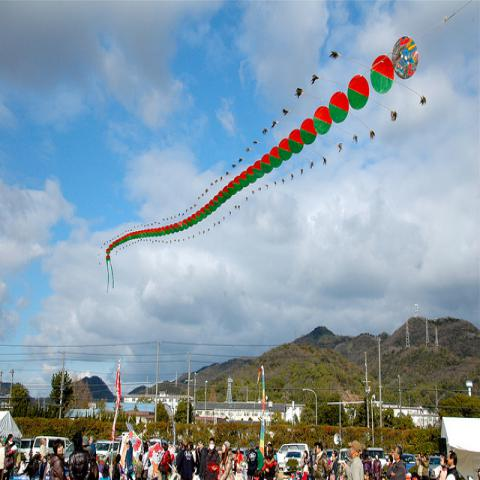car: (96, 441, 119, 465), (368, 446, 387, 469), (428, 454, 440, 479), (403, 454, 416, 473), (339, 448, 351, 466), (149, 438, 162, 447)
truck: (35, 437, 77, 470), (276, 444, 311, 472), (18, 449, 32, 462)
